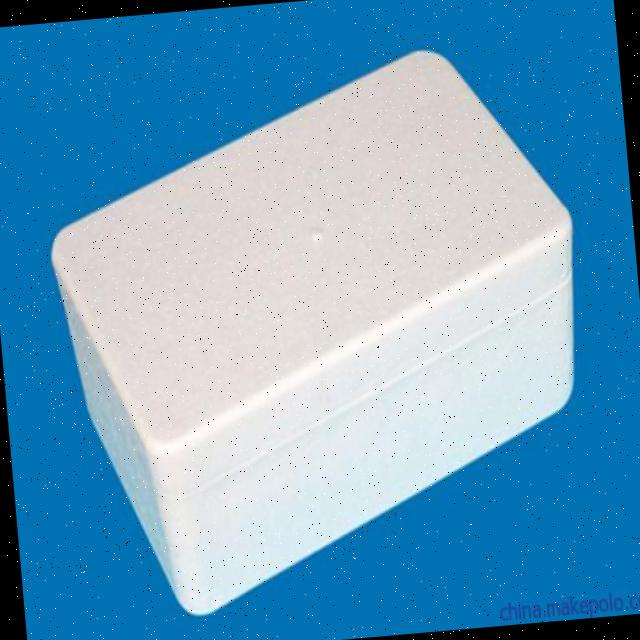styrofoam: (33, 33, 604, 627)
